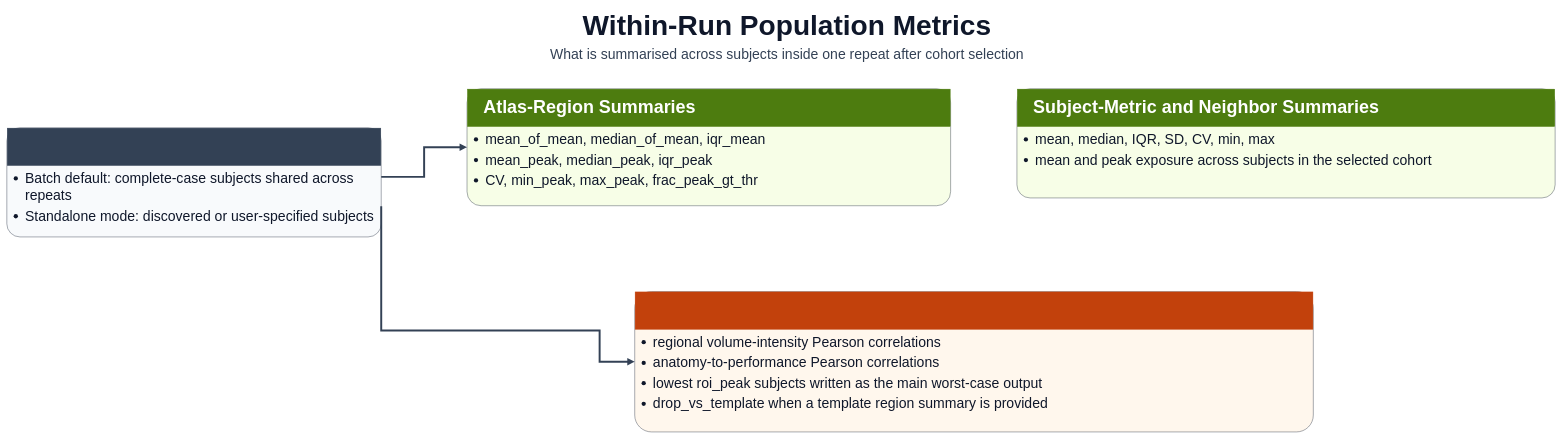
Some shapes in this 1562 by 439 pixel diagram are drawn without their labels. Here are the shapes that lost their labels. From the top down, the centre of each, then its label:
pixel 194 147: Selected Cohort Within One Repeat
pixel 974 310: Association, Worst-Case, and Legacy Metrics
